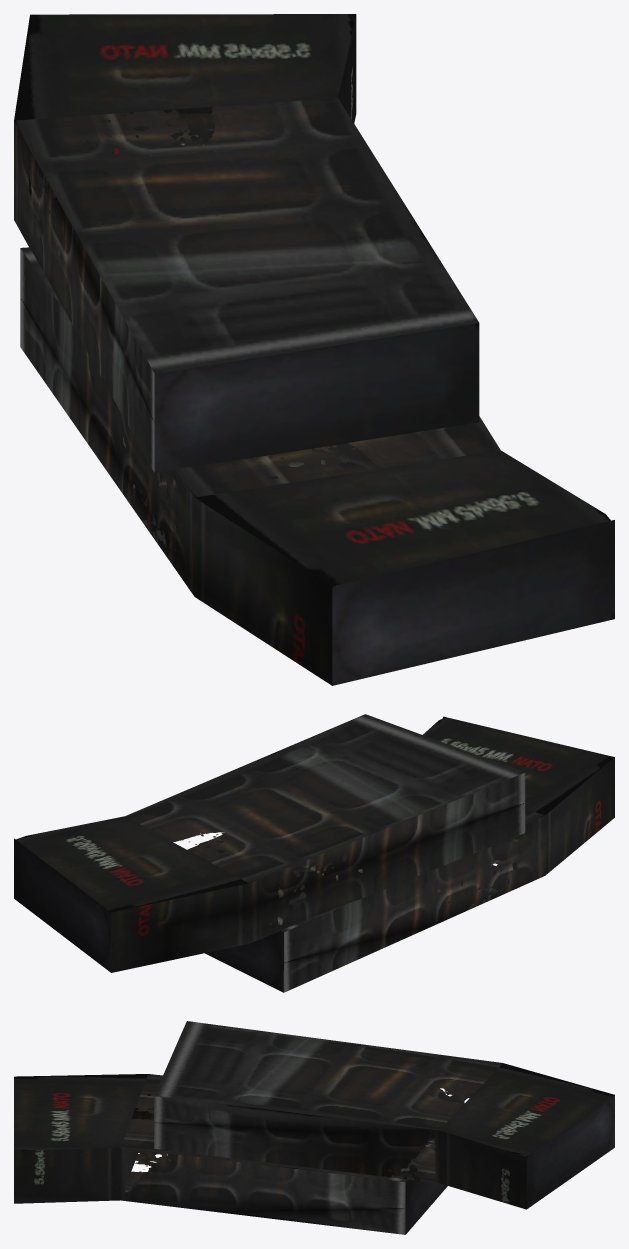
Rendered from t6_attach_fastmag_xm8_world_LOD2.obj.
3 views of the same model, one above another, from view 1: azimuth 30°, elevation 25°; view 2: azimuth 150°, elevation 25°; view 3: azimuth 270°, elevation 25° (orthographic). The views are drawn at different scales.
Visible parts, largest first — view 1: mtl_t6_wpn_ar_xm8, mtl_t6_wpn_ar_xm8_camo3; view 2: mtl_t6_wpn_ar_xm8, mtl_t6_wpn_ar_xm8_camo3; view 3: mtl_t6_wpn_ar_xm8, mtl_t6_wpn_ar_xm8_camo3.
Part boxes in pixels (bbox=[...]): mtl_t6_wpn_ar_xm8: bbox=[14, 14, 614, 685]; mtl_t6_wpn_ar_xm8_camo3: bbox=[14, 15, 356, 685]; mtl_t6_wpn_ar_xm8: bbox=[14, 714, 614, 992]; mtl_t6_wpn_ar_xm8_camo3: bbox=[111, 757, 614, 992]; mtl_t6_wpn_ar_xm8: bbox=[14, 1021, 614, 1234]; mtl_t6_wpn_ar_xm8_camo3: bbox=[14, 1072, 526, 1234].
Bounding box in the file's own units: 13.38 × 5 × 25.14.
